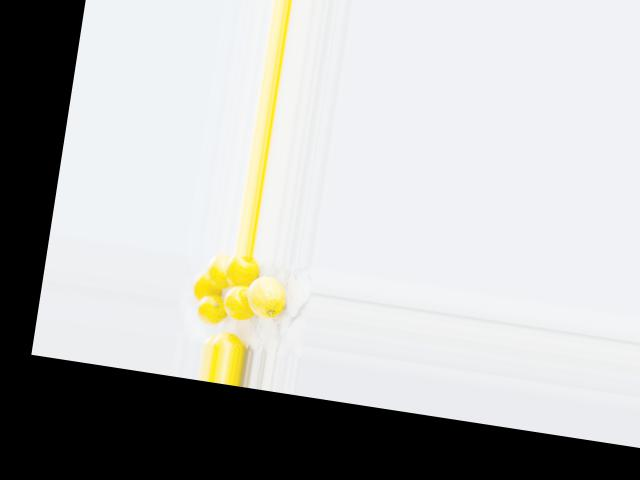lemon: (241, 269, 289, 327)
